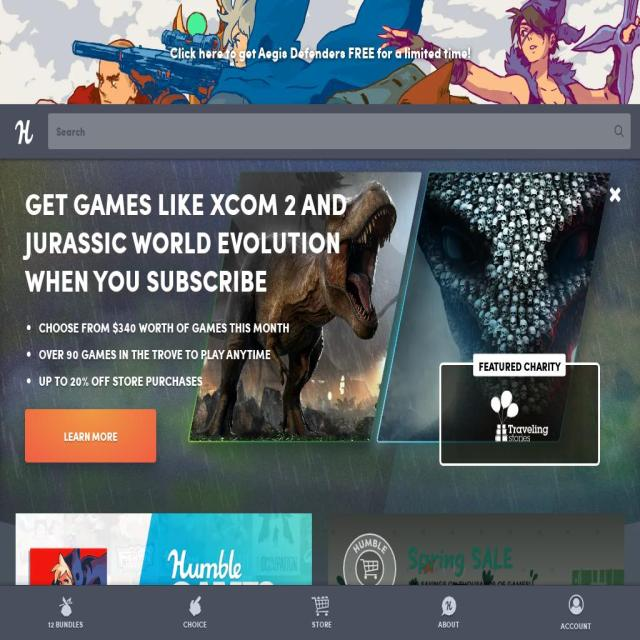button: (15, 513, 312, 640), (328, 513, 624, 640), (438, 362, 600, 467), (25, 408, 156, 462), (0, 104, 49, 158), (43, 586, 89, 636), (175, 586, 216, 636), (301, 586, 342, 636), (428, 586, 469, 636), (556, 586, 596, 636)
field: (48, 113, 631, 149)
heading: (25, 184, 350, 299)
image: (0, 159, 640, 603), (15, 513, 312, 640), (328, 513, 624, 640), (404, 533, 605, 605), (456, 381, 584, 458), (342, 533, 397, 605), (14, 119, 34, 144)
link: (170, 41, 470, 63)
text: (39, 314, 615, 341), (39, 341, 615, 367), (39, 368, 615, 394), (473, 353, 566, 377), (48, 618, 84, 630), (560, 619, 592, 632), (180, 618, 211, 630), (306, 618, 337, 630), (433, 618, 464, 630)
